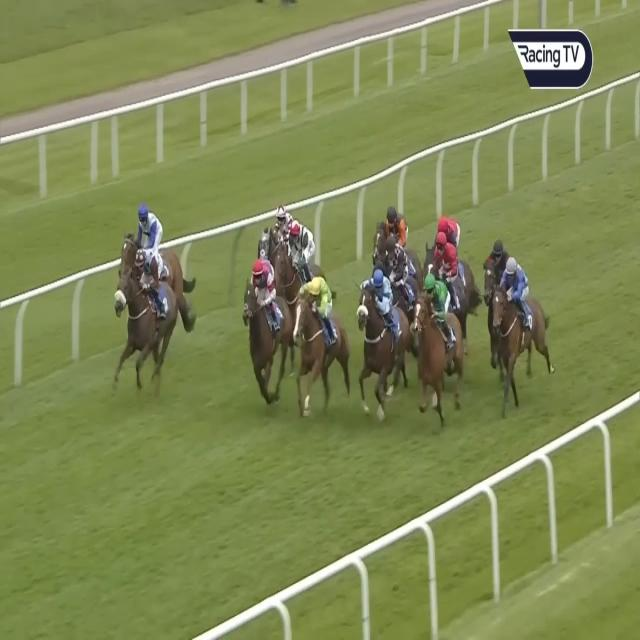horses-racing: (110, 252, 193, 364), (492, 256, 546, 401), (412, 270, 462, 412), (359, 267, 405, 416), (116, 200, 191, 287), (237, 258, 287, 387), (295, 279, 340, 408), (478, 236, 513, 324), (278, 223, 319, 297), (371, 197, 413, 260), (247, 202, 293, 257), (428, 232, 467, 284), (381, 239, 415, 282), (434, 210, 464, 249)
